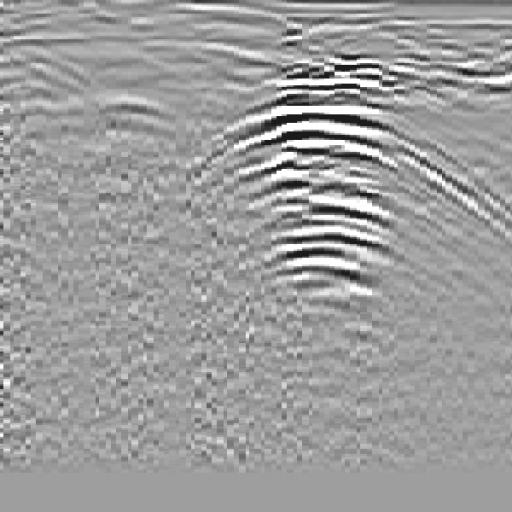metalic: (199, 56, 438, 314)
